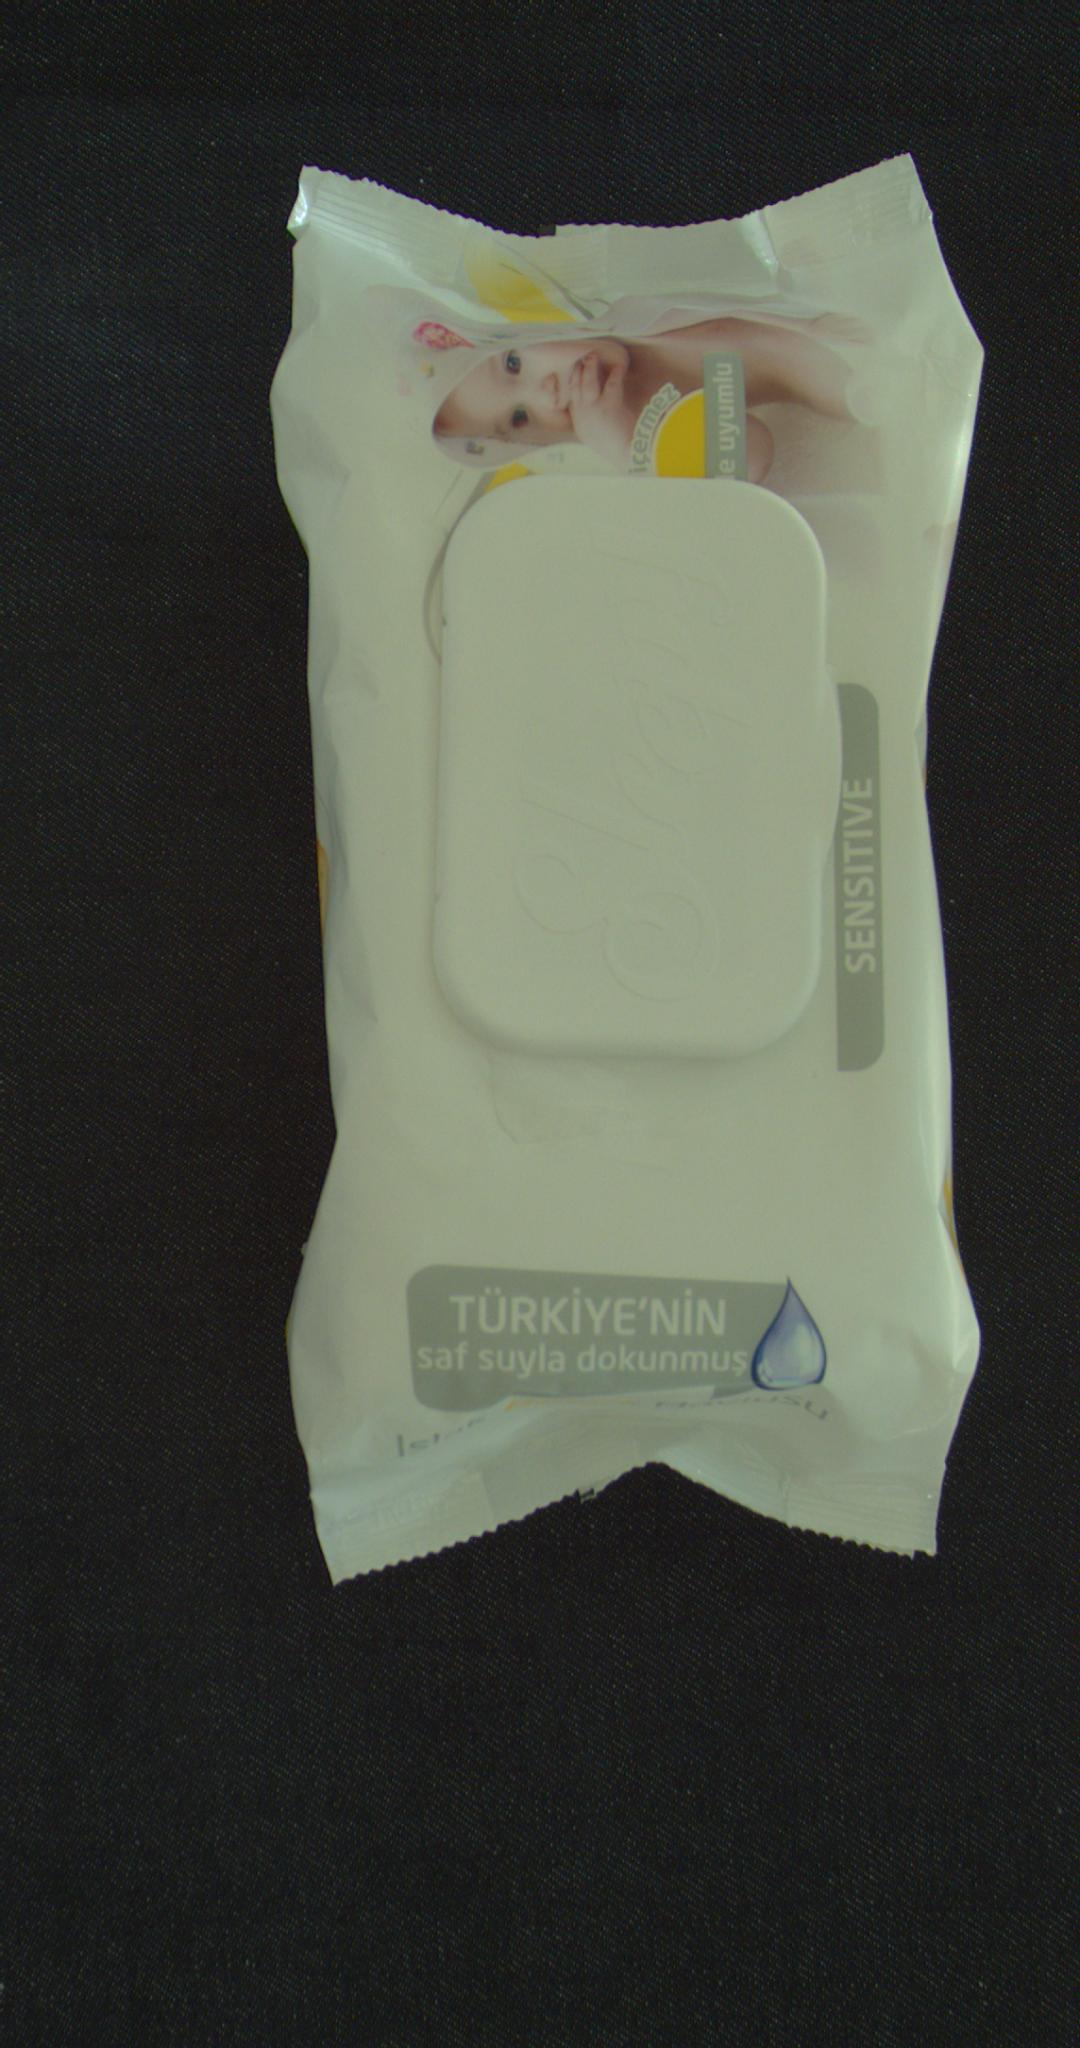kapak: (435, 478, 825, 1062)
